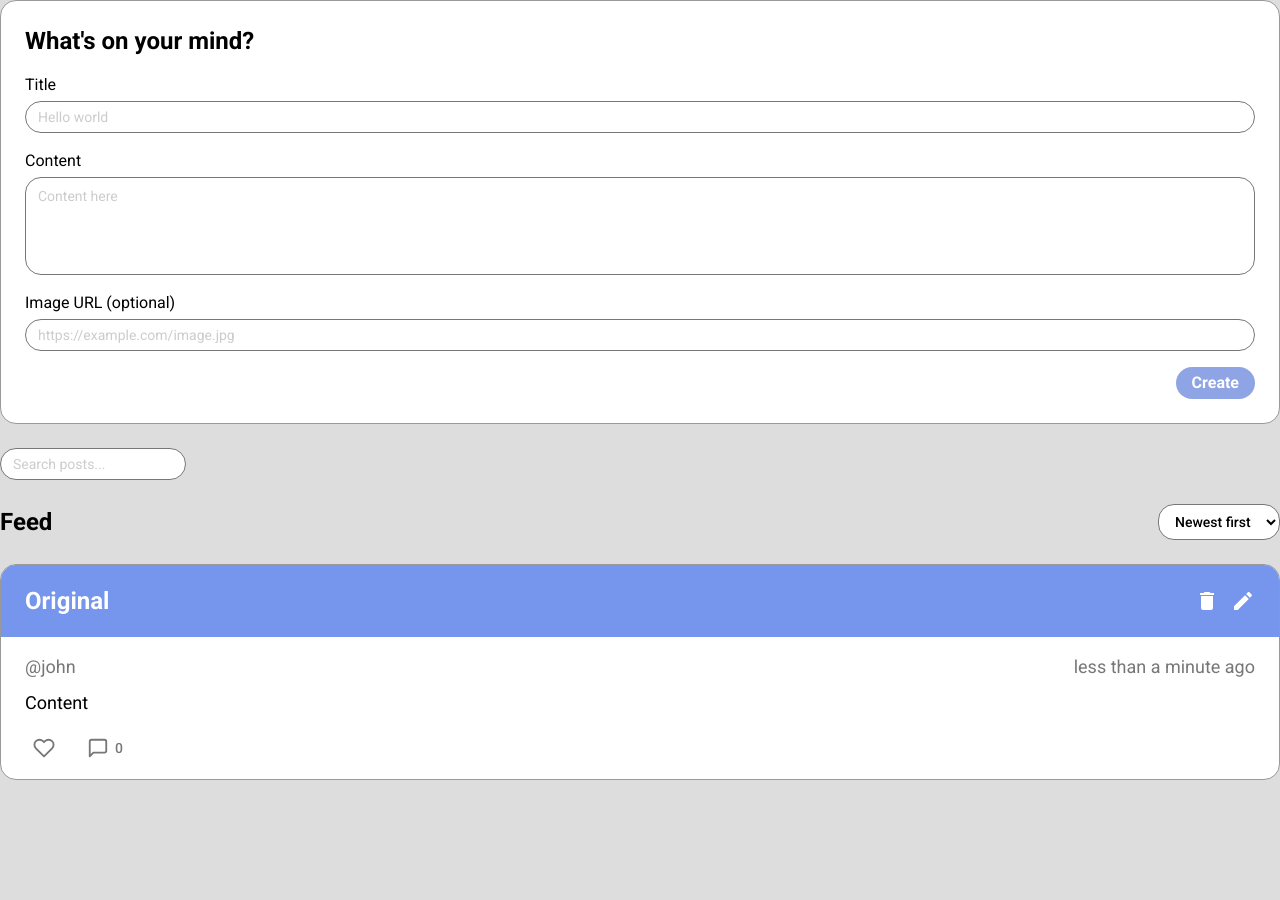
it: Smoke: CRUD (owner) › edit post updates state
The width and height of the screenshot is (1280, 900).
Expected: the heading "Original" is shown, top-left (25, 585), bottom-right (109, 617)
Click the button named "edit post original": (1243, 601) top-left (1231, 589), bottom-right (1255, 613)
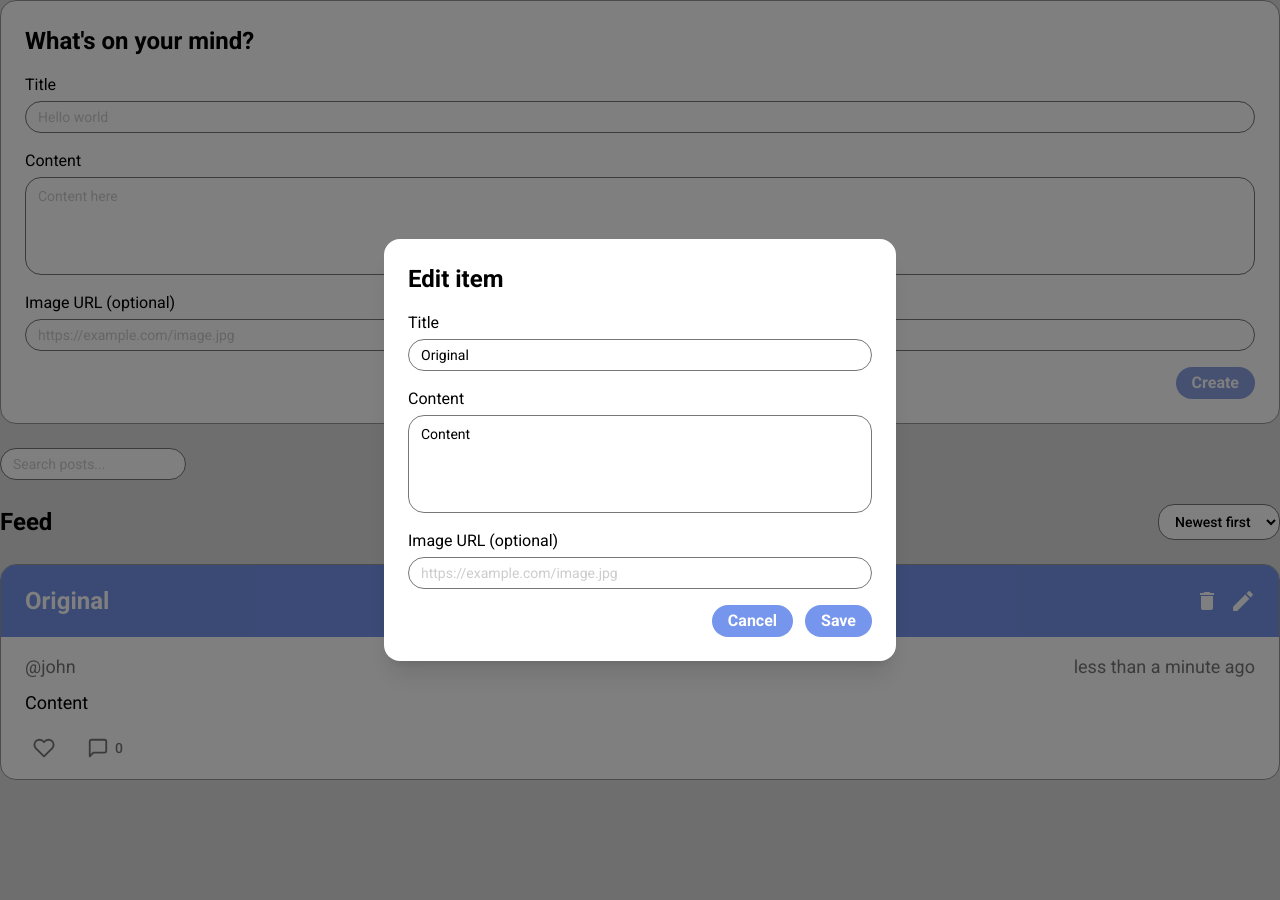
Replace the text in the field showing "Original" with "Updated Title": (640, 355) top-left (408, 339), bottom-right (872, 371)
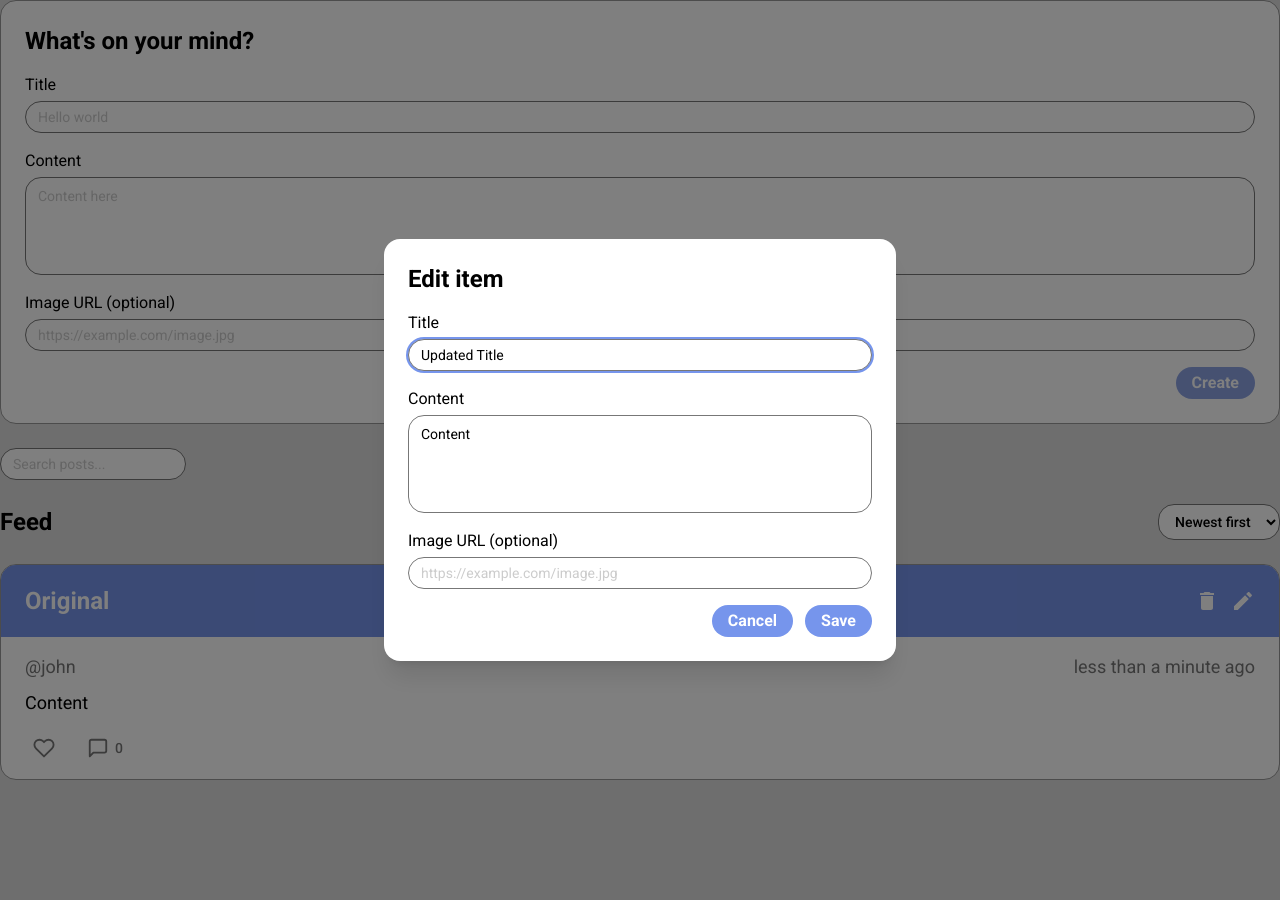
Click the button "Save": (839, 621) top-left (805, 605), bottom-right (872, 637)
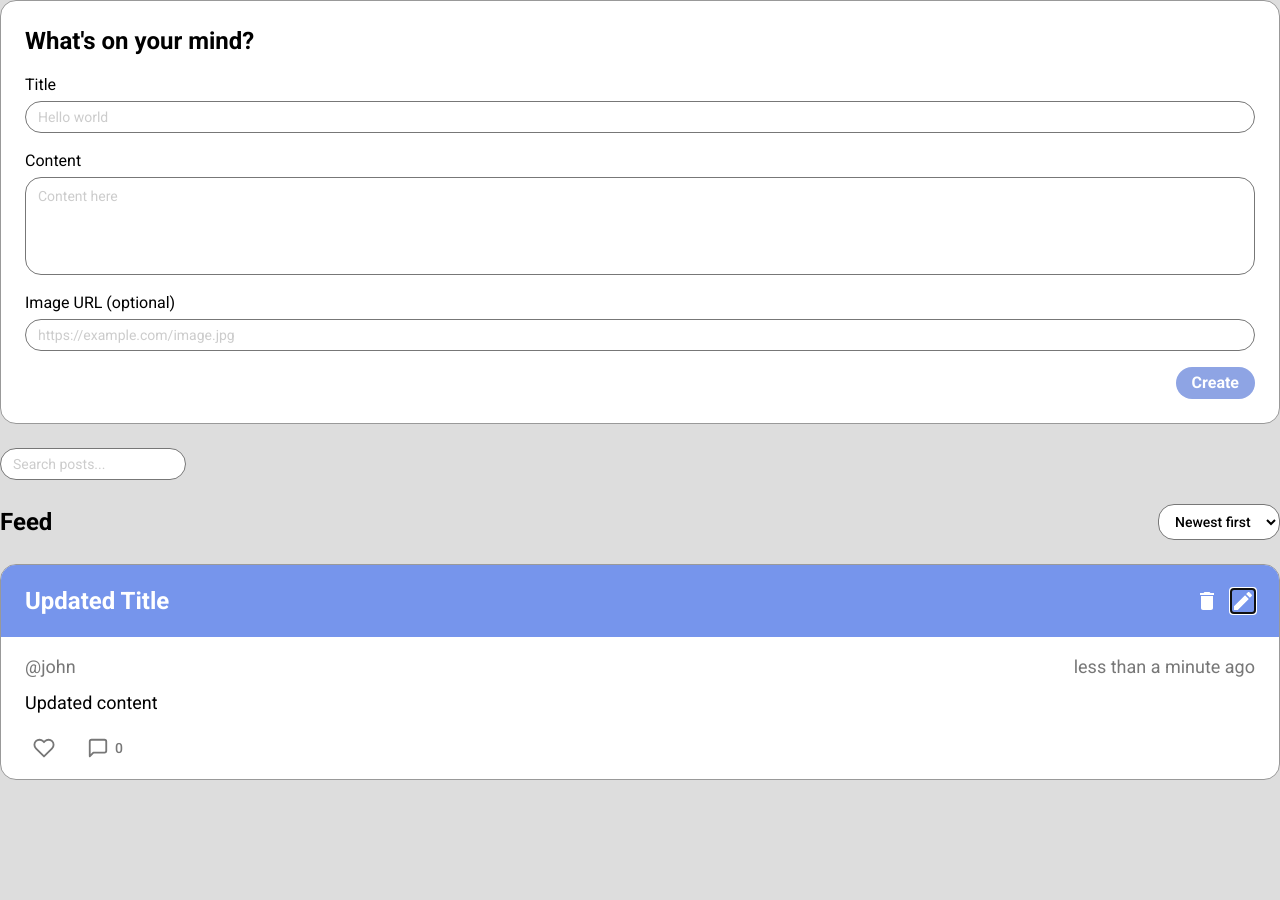
Result: the heading named "original" reads "Updated Title" at top-left (25, 587), bottom-right (169, 615)
